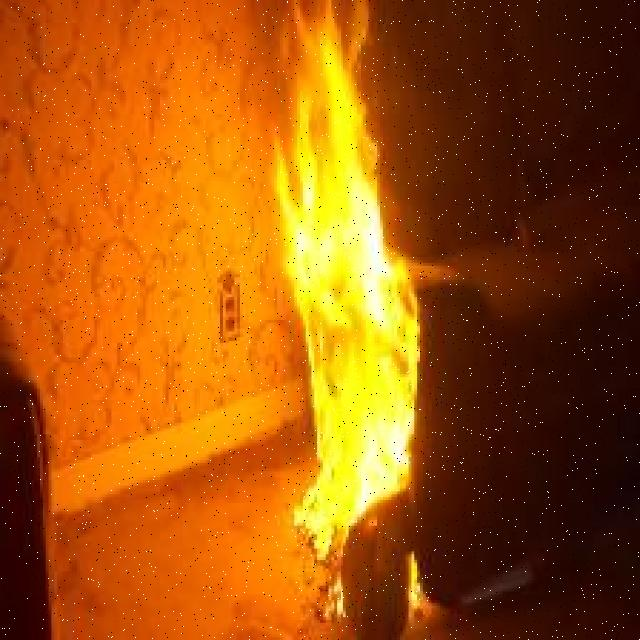fire: (264, 3, 424, 638)
